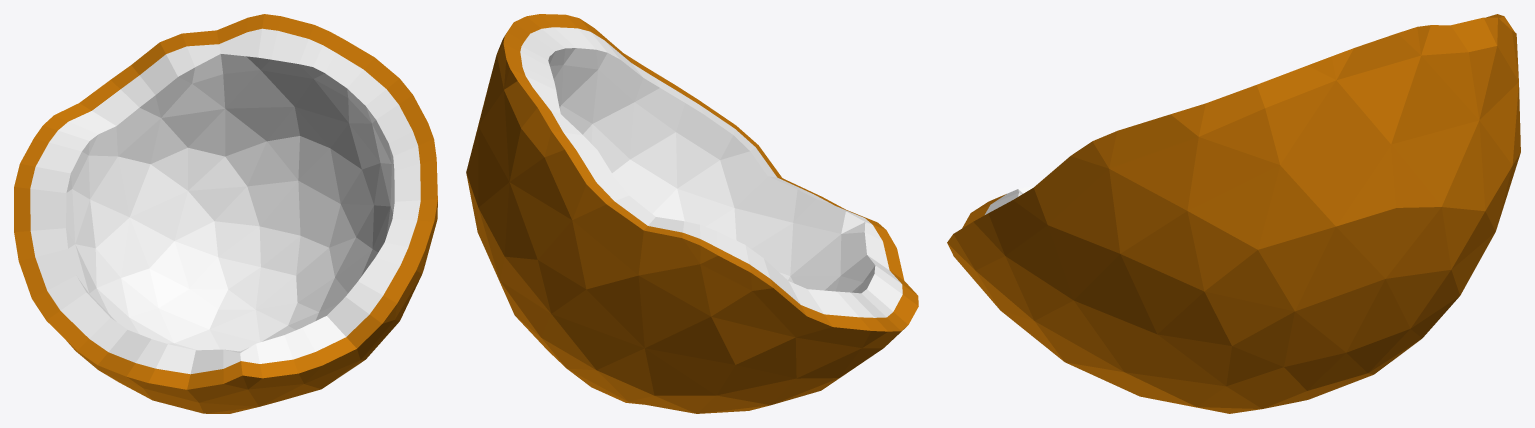
File: coconutmetade.fbx
3 views of the same model, side by side, from view 1: azimuth 30°, elevation 25°; view 2: azimuth 150°, elevation 25°; view 3: azimuth 270°, elevation 25° (orthographic). The views are drawn at different scales.
Visible parts, largest first — view 1: Coconut; view 2: Coconut; view 3: Coconut.
Part boxes in pixels (bbox=[...]): Coconut: bbox=[14, 14, 437, 413]; Coconut: bbox=[466, 14, 918, 413]; Coconut: bbox=[947, 14, 1520, 413].
Size of the model in its own units: 0.4662 by 0.3891 by 0.4714.
